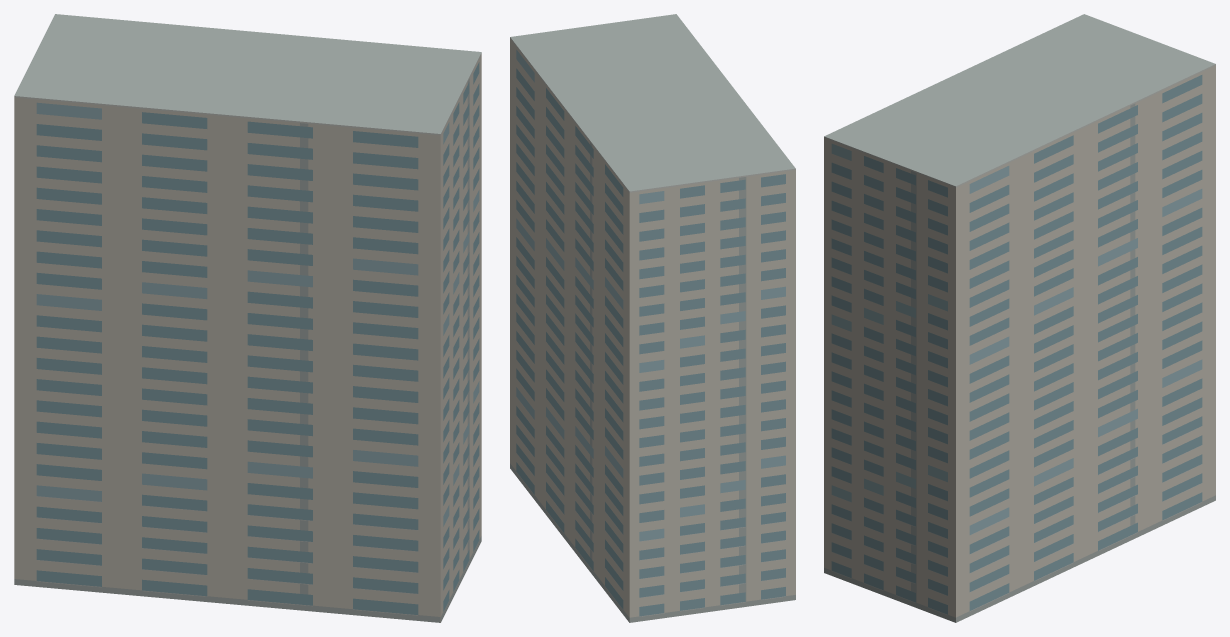
Rendered from residential-5a7abb73-50d3-47a8-ae71-51b4e3635c22.glb.
The picture shows the model from 3 angles, left to right: view 1: azimuth 30°, elevation 25°; view 2: azimuth 150°, elevation 25°; view 3: azimuth 270°, elevation 25°; orthographic projection. The views are drawn at different scales.
Parts seen in each view (by area): view 1: residential-5a7abb73-50d3-47a8-ae71-51b4e3635c22.tmp; view 2: residential-5a7abb73-50d3-47a8-ae71-51b4e3635c22.tmp; view 3: residential-5a7abb73-50d3-47a8-ae71-51b4e3635c22.tmp.
Part boxes in pixels (left/top/right/bottom): residential-5a7abb73-50d3-47a8-ae71-51b4e3635c22.tmp: left=14, top=14, right=481, bottom=622; residential-5a7abb73-50d3-47a8-ae71-51b4e3635c22.tmp: left=510, top=14, right=795, bottom=622; residential-5a7abb73-50d3-47a8-ae71-51b4e3635c22.tmp: left=824, top=14, right=1215, bottom=622.
Bounding box in the file's own units: 64.38 × 76 × 61.84.
